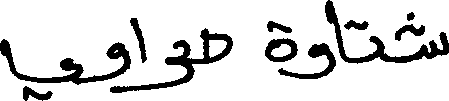ا: (332, 0, 345, 71), (131, 15, 147, 64)
ة: (265, 19, 295, 64)
ت: (346, 20, 384, 62)
ح: (163, 38, 193, 63)
ر: (145, 57, 194, 93)
ش: (393, 10, 447, 59)
ص: (200, 25, 233, 64)
و: (306, 41, 333, 79), (107, 39, 130, 79)
ي: (0, 37, 85, 99)
